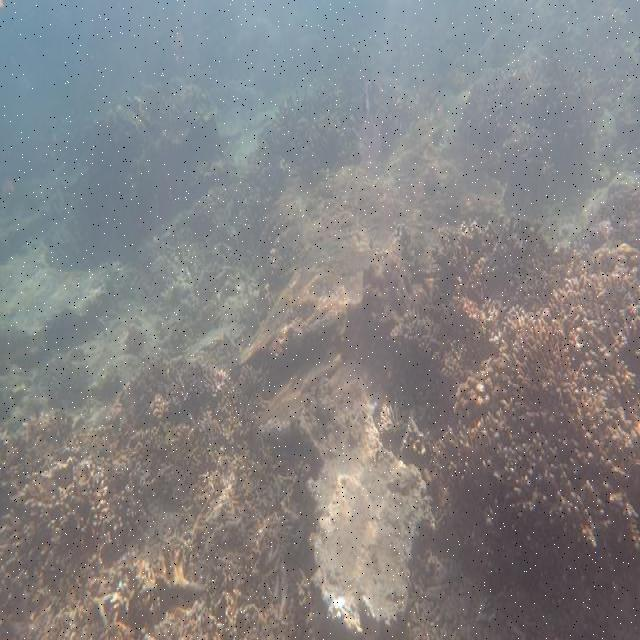reefs: (0, 357, 300, 640), (389, 211, 639, 547), (266, 76, 431, 164)
